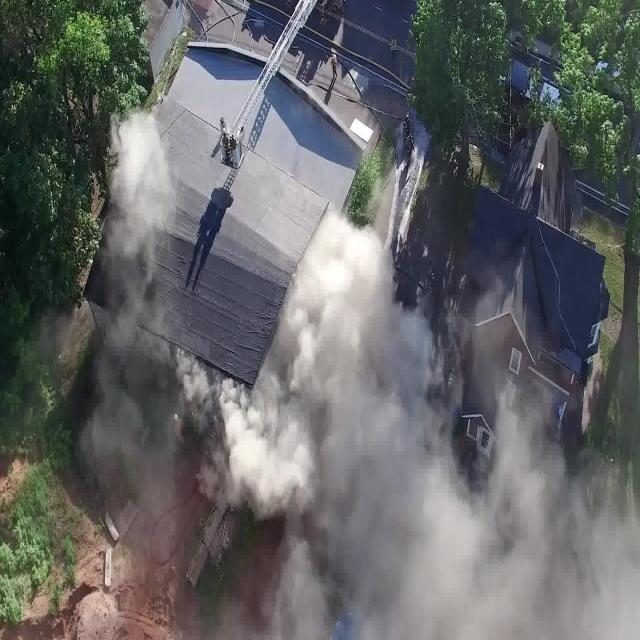Smoke: (99, 111, 640, 640)
